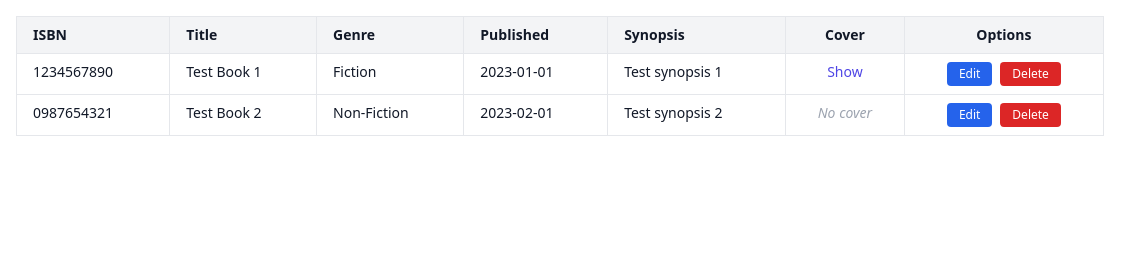
BookTable Component › displays success message after successful edit
The image size is (1121, 254).
Step 1. Click the button "Edit" in the row of "1234567890" → (970, 74), box [947,62,992,86]
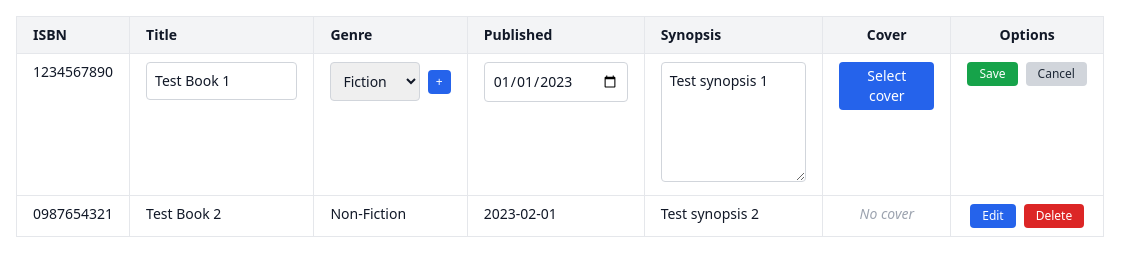
Step 2. Click the button "Save" → (992, 74), box [967,62,1018,86]
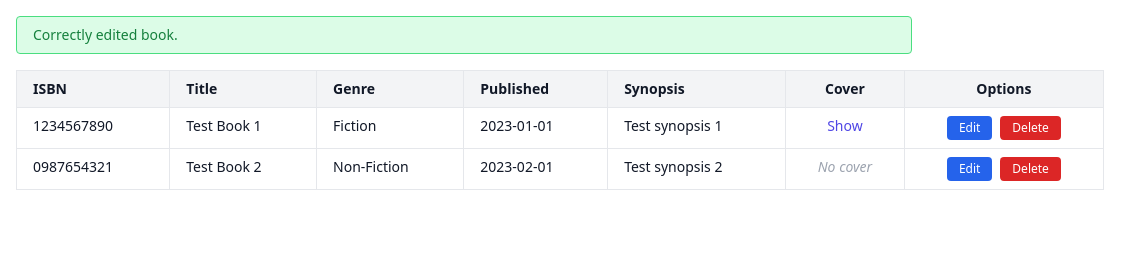
Result: the text "Correctly edited book." is shown at [16,16,912,54]
